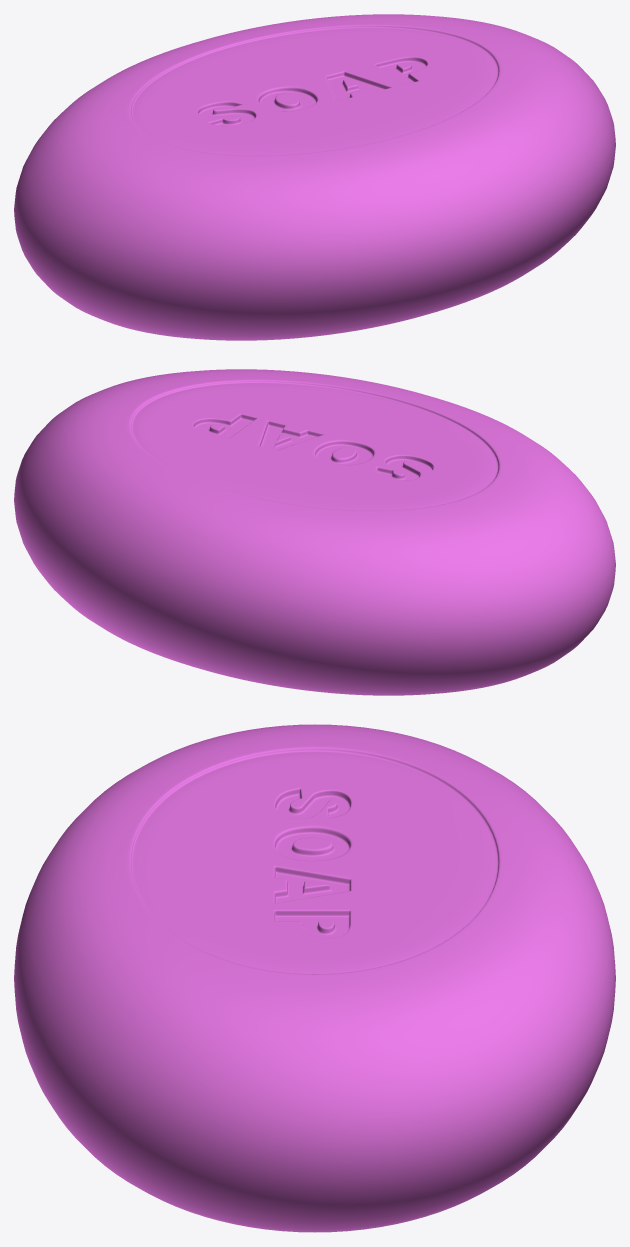
File: soap_3.fbx
3 views of the same model, one above another, from view 1: azimuth 30°, elevation 25°; view 2: azimuth 150°, elevation 25°; view 3: azimuth 270°, elevation 25° (orthographic). The views are drawn at different scales.
Parts seen in each view (by area): view 1: 16878_bar_of_soap_V1; view 2: 16878_bar_of_soap_V1; view 3: 16878_bar_of_soap_V1.
Part boxes in pixels (box(x1,y1,x2,y2)): 16878_bar_of_soap_V1: box(14, 14, 615, 340); 16878_bar_of_soap_V1: box(14, 369, 615, 695); 16878_bar_of_soap_V1: box(14, 724, 615, 1232).
Size of the model in its own units: 828 by 246 by 571.
